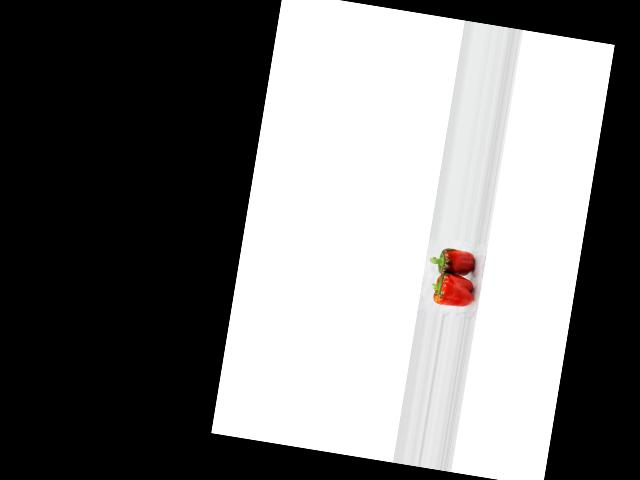bell_pepper: (425, 271, 477, 314)
